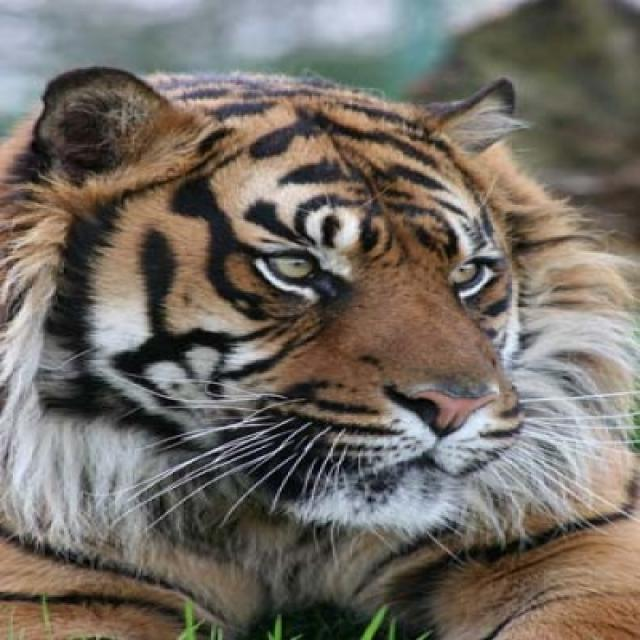Tiger: (3, 74, 638, 636)
